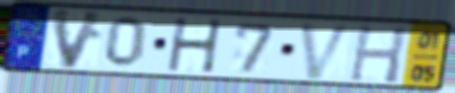0: (101, 15, 151, 70)
7: (232, 22, 276, 74)
H: (347, 22, 410, 86), (166, 17, 225, 75)
V: (49, 6, 108, 71), (297, 20, 356, 81)
